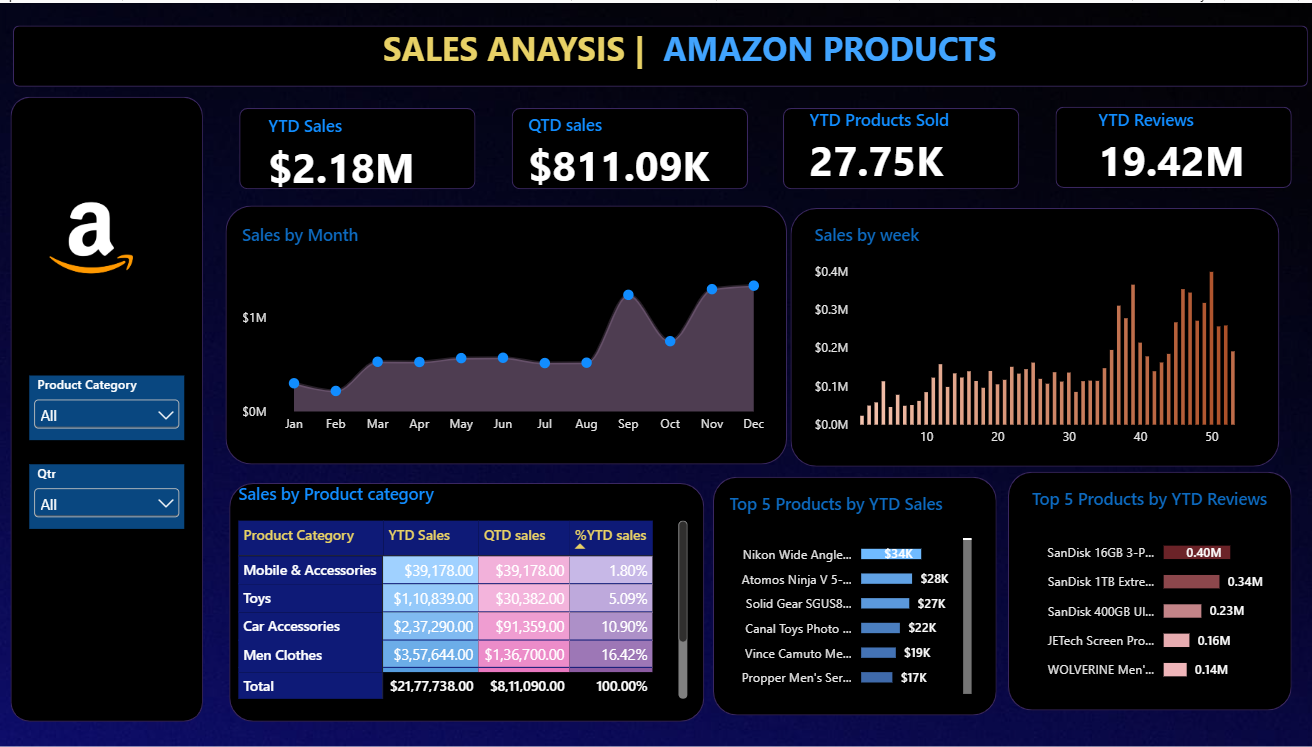

This screenshot's page, from the dashboard's own definition file:
{"tool":"powerbi","page":{"name":"Page 1","canvas":[1280,720],"ordinal":0},"visuals":[{"type":"shape","box":[14.5,21.7,1249.9,59.1],"z":0},{"type":"textbox","box":[371.6,21.7,635.8,49.5],"z":1},{"type":"shape","box":[12.1,90.5,185.8,603.2],"z":2},{"type":"shape","box":[232.8,101.3,228,78.4],"z":3},{"type":"cardVisual","fields":{"Data":["Amazon_Data.YTD Sales"]},"box":[244.7,106.2,228,78.4],"z":4},{"type":"shape","box":[495.4,101.3,228,78.4],"z":5},{"type":"shape","box":[1020.6,100.1,228,78.4],"z":6},{"type":"shape","box":[758,101.3,228,78.4],"z":7},{"type":"cardVisual","fields":{"Data":["Amazon_Data.QTD sales"]},"box":[495.8,105,234,78.4],"z":8},{"type":"shape","box":[219.6,195.4,542,250],"z":9},{"type":"cardVisual","fields":{"Data":["Amazon_Data.YTD Products Sold"]},"box":[767.3,100.1,234,78.4],"z":10},{"type":"cardVisual","fields":{"Data":["Amazon_Data.YTD Reviews"]},"box":[1046,100.1,234,78.4],"z":11},{"type":"areaChart","title":"Sales by Month","fields":{"Category":["Date Table.Month Name"],"Y":["Sum(Amazon_Data.Price(Dollar))"]},"box":[219.6,197.9,542,237],"z":12},{"type":"shape","box":[764.9,197.9,471.7,249.7],"z":13},{"type":"columnChart","title":"Sales by week","fields":{"Category":["Date Table.Week"],"Y":["Sum(Amazon_Data.Price(Dollar))"]},"box":[772.1,197.9,457.2,249.7],"z":14},{"type":"shape","box":[223.2,463.3,458.4,230.4],"z":15},{"type":"pivotTable","title":"Sales by Product category","fields":{"Rows":["Amazon_Data.Product Category"],"Values":["Amazon_Data.YTD Sales1","Amazon_Data.QTD sales","Amazon_Data.YTD Sales"]},"box":[216,447.6,465.7,240.1],"z":16},{"type":"shape","box":[690.1,457.2,273.9,230.4],"z":17},{"type":"shape","box":[974.8,452.4,273.9,230.4],"z":18},{"type":"clusteredBarChart","title":"Top 5 Products by YTD Sales","fields":{"Category":["Amazon_Data.Product Description"],"Y":["Amazon_Data.YTD Sales"]},"box":[690.1,457.2,265.4,225.6],"z":19},{"type":"clusteredBarChart","title":"Top 5 Products by YTD Reviews","fields":{"Category":["Amazon_Data.Product Description"],"Y":["Amazon_Data.YTD Reviews"]},"box":[982.5,452.8,265.4,225.6],"z":20},{"type":"slicer","fields":{"Values":["Amazon_Data.Product Category"]},"box":[30.2,359.5,149.6,62.7],"z":21},{"type":"slicer","fields":{"Values":["Date Table.Qtr"]},"box":[30.2,445.2,149.6,62.7],"z":22},{"type":"image","box":[0,118.2,179.8,217.2],"z":23}]}

Visuals, with their boxes in screenshot pixels (x1, y1, x2, y2), scaled from the page's 1280x720 canvas onto the 1312x747 screenshot:
shape: [15, 23, 1296, 84]
textbox: [381, 23, 1033, 74]
shape: [12, 94, 203, 720]
shape: [239, 105, 472, 186]
cardVisual - Amazon_Data.YTD Sales: [251, 110, 485, 192]
shape: [508, 105, 741, 186]
shape: [1046, 104, 1280, 185]
shape: [777, 105, 1011, 186]
cardVisual - Amazon_Data.QTD sales: [508, 109, 748, 190]
shape: [225, 203, 781, 462]
cardVisual - Amazon_Data.YTD Products Sold: [786, 104, 1026, 185]
cardVisual - Amazon_Data.YTD Reviews: [1072, 104, 1311, 185]
"Sales by Month" areaChart: [225, 205, 781, 451]
shape: [784, 205, 1268, 464]
"Sales by week" columnChart: [791, 205, 1260, 464]
shape: [229, 481, 699, 720]
"Sales by Product category" pivotTable: [221, 464, 699, 713]
shape: [707, 474, 988, 713]
shape: [999, 469, 1280, 708]
"Top 5 Products by YTD Sales" clusteredBarChart: [707, 474, 979, 708]
"Top 5 Products by YTD Reviews" clusteredBarChart: [1007, 470, 1279, 704]
slicer - Amazon_Data.Product Category: [31, 373, 184, 438]
slicer - Date Table.Qtr: [31, 462, 184, 527]
image: [0, 123, 184, 348]
